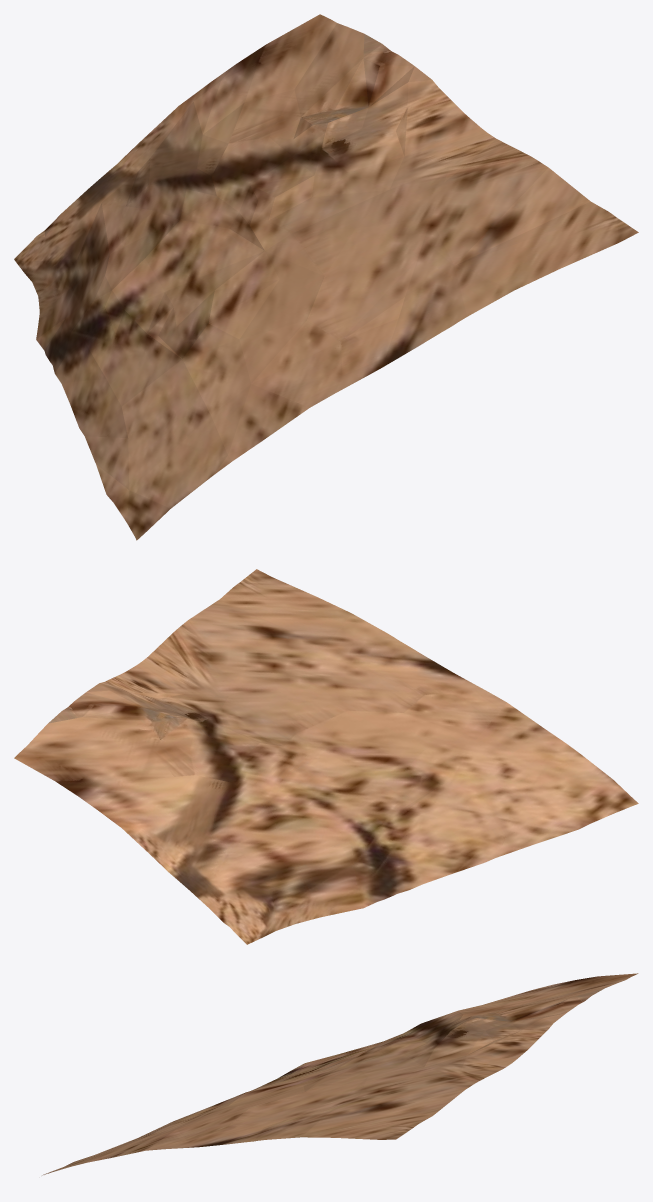
3 views of the same model, one above another, from view 1: azimuth 30°, elevation 25°; view 2: azimuth 150°, elevation 25°; view 3: azimuth 330°, elevation 25° (orthographic). The views are drawn at different scales.
Bounding box in the file's own units: 0.9498 × 0.3397 × 1.04.
Materials: 2 (2 with a texture image).
